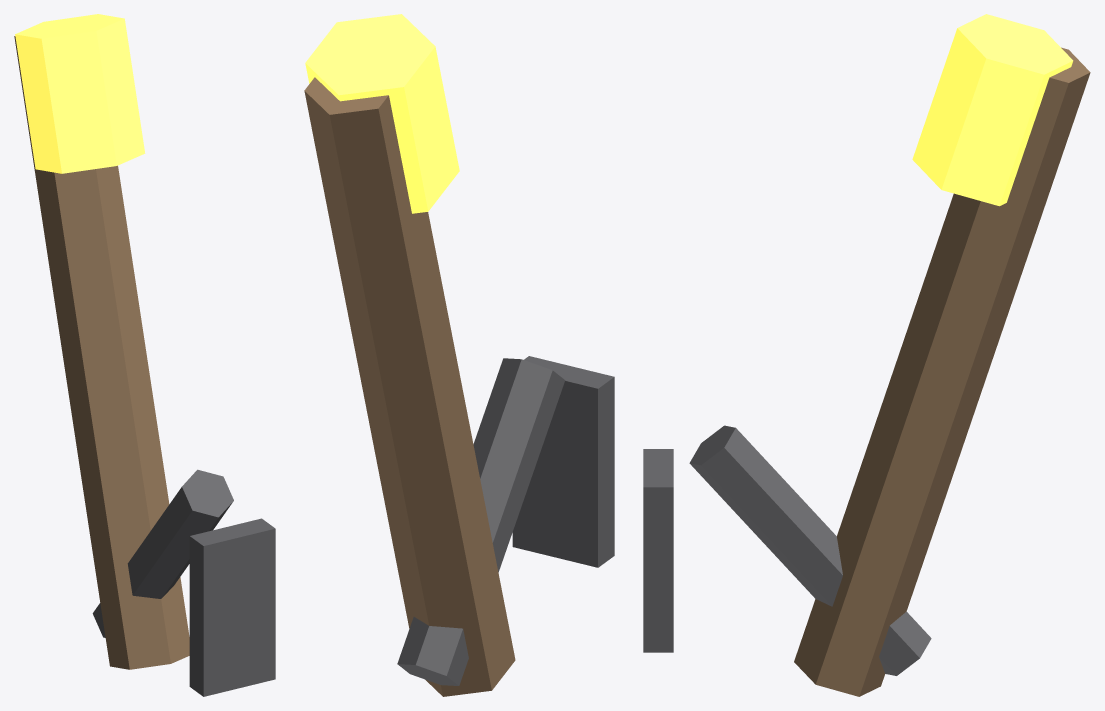
Rendered from WallTorch.glb.
3 views of the same model, side by side, from view 1: azimuth 30°, elevation 25°; view 2: azimuth 150°, elevation 25°; view 3: azimuth 270°, elevation 25° (orthographic). The views are drawn at different scales.
Parts seen in each view (by area): view 1: WallTorch; view 2: WallTorch; view 3: WallTorch.
Boxes of the visible parts, box(x1,y1,x2,y2) form: WallTorch: box(14, 14, 275, 696); WallTorch: box(304, 14, 614, 696); WallTorch: box(643, 14, 1090, 696).
Size of the model in its own units: 0.1039 by 0.717 by 0.4414.
